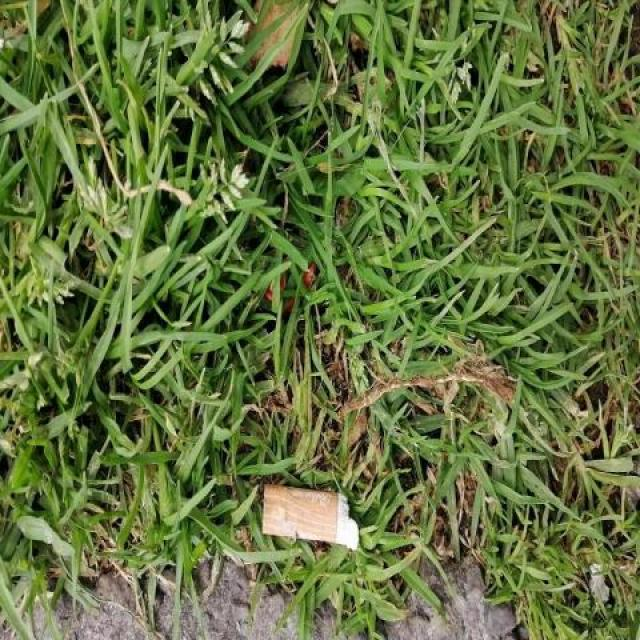non-organic waste: (254, 477, 361, 555)
